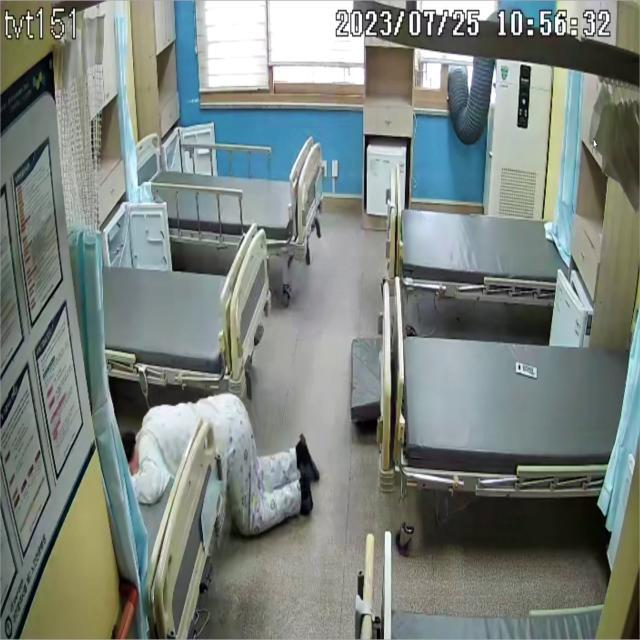bed: (397, 327, 631, 501), (102, 223, 274, 400), (136, 133, 320, 254), (388, 183, 570, 304)
fall: (126, 391, 319, 536)
patient: (127, 393, 319, 535)
